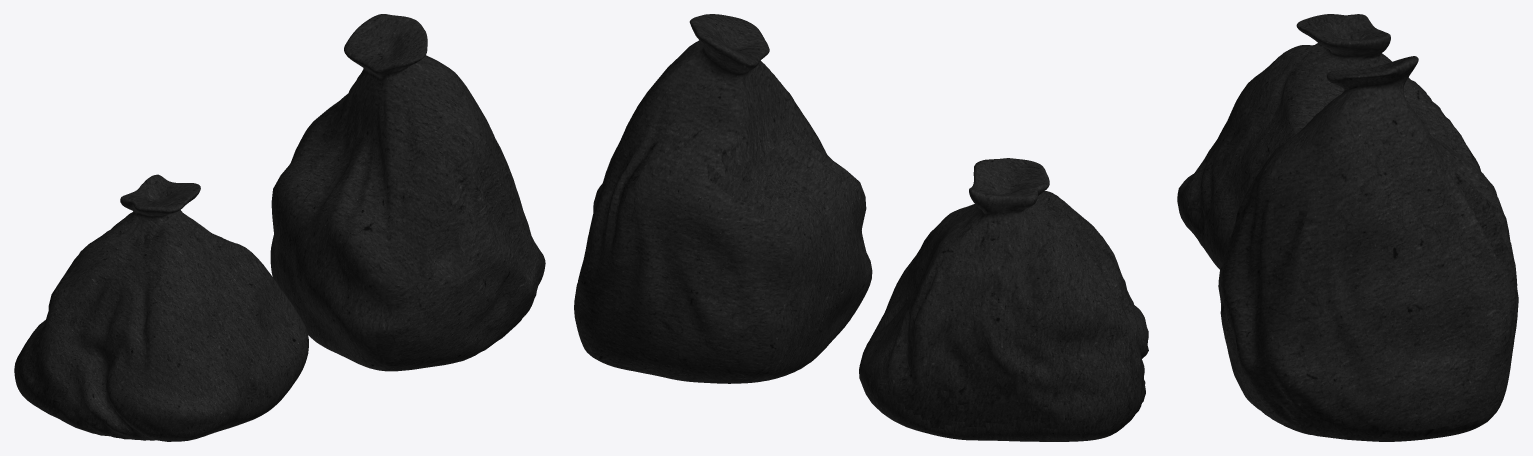
File: meshki musornie.fbx
3 views of the same model, side by side, from view 1: azimuth 30°, elevation 25°; view 2: azimuth 150°, elevation 25°; view 3: azimuth 270°, elevation 25° (orthographic). The views are drawn at different scales.
Visible parts, largest first — view 1: Trash Bag Front Large, Trash Bag Front Small; view 2: Trash Bag Front Large, Trash Bag Front Small; view 3: Trash Bag Front Large, Trash Bag Front Small.
Part boxes in pixels (bbox=[...]): Trash Bag Front Large: bbox=[270, 14, 545, 371]; Trash Bag Front Small: bbox=[14, 174, 308, 441]; Trash Bag Front Large: bbox=[574, 14, 872, 383]; Trash Bag Front Small: bbox=[859, 158, 1148, 441]; Trash Bag Front Large: bbox=[1218, 56, 1518, 441]; Trash Bag Front Small: bbox=[1177, 14, 1481, 269].
Bounding box in the file's own units: 122 × 71.68 × 65.11.
